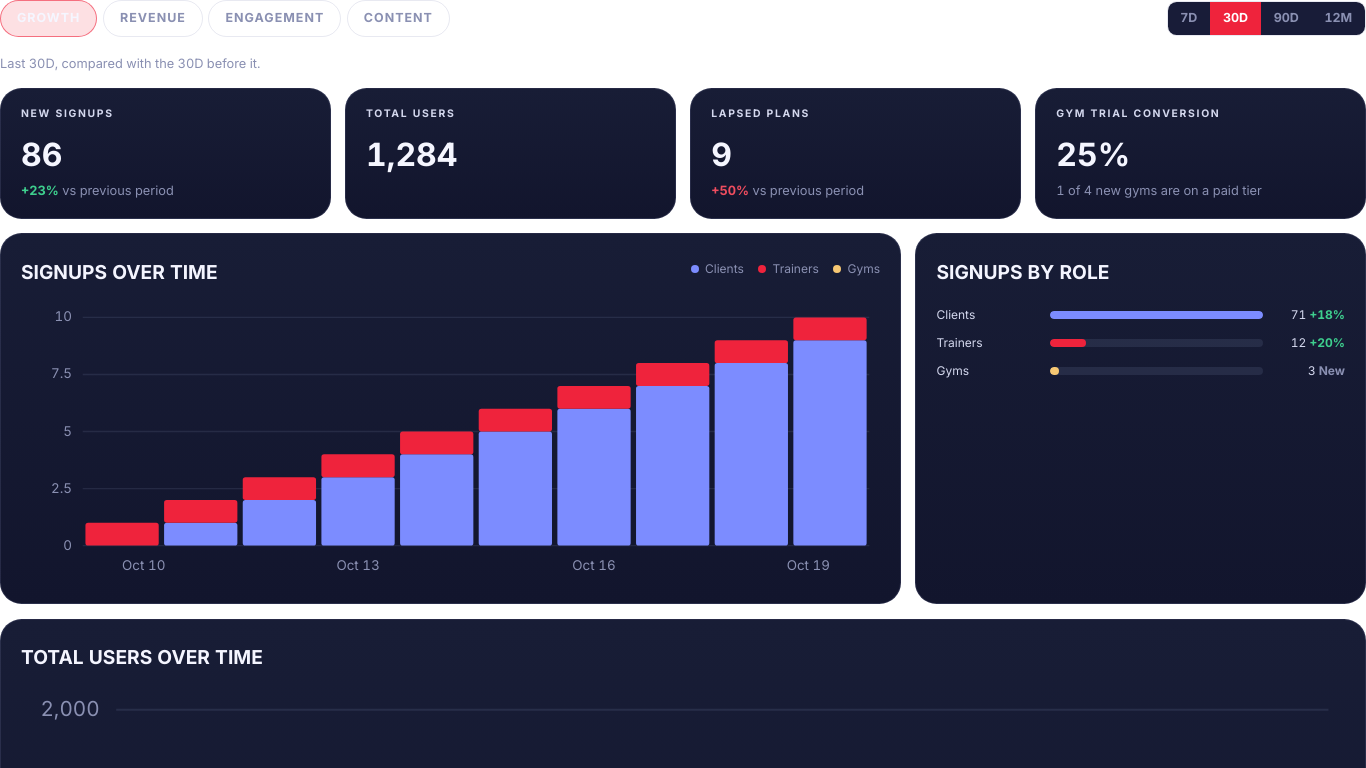
Test: AdminAnalytics › switches tabs and shows revenue, engagement and content
expect the element with test id "kpi-signups" is shown: met, box x1=0 y1=88 x2=331 y2=219
Click the tab "Revenue" at (153,18), box x1=103 y1=0 x2=203 y2=37
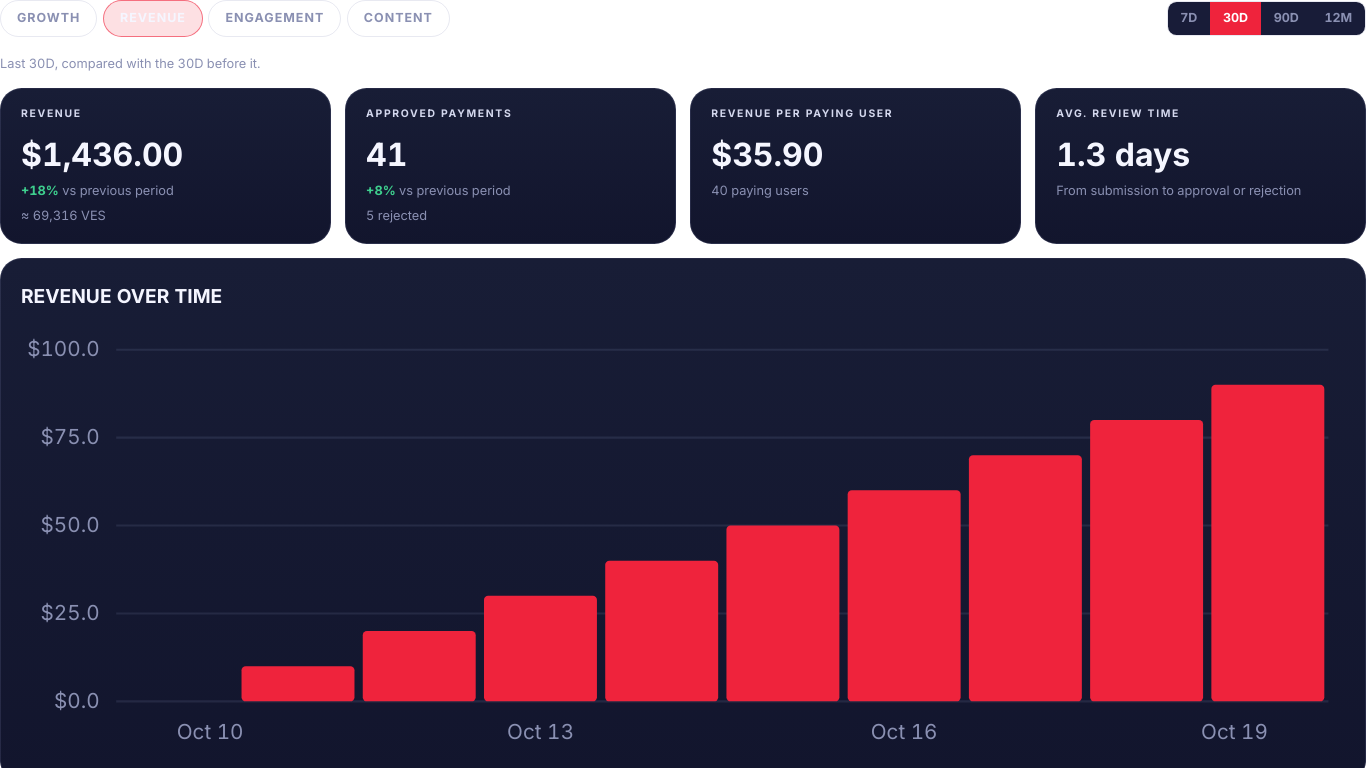
expect the element with test id "kpi-revenue" shows "$1,436.00": met, box x1=21 y1=135 x2=183 y2=174
expect the element with test id "kpi-revenue" shows "VES": met, box x1=21 y1=208 x2=106 y2=223
expect the element with test id "kpi-review-time" shows "1.3 days": met, box x1=1056 y1=135 x2=1190 y2=174
Click the tab "Engagement" at (275,18), box x1=208 y1=0 x2=341 y2=37
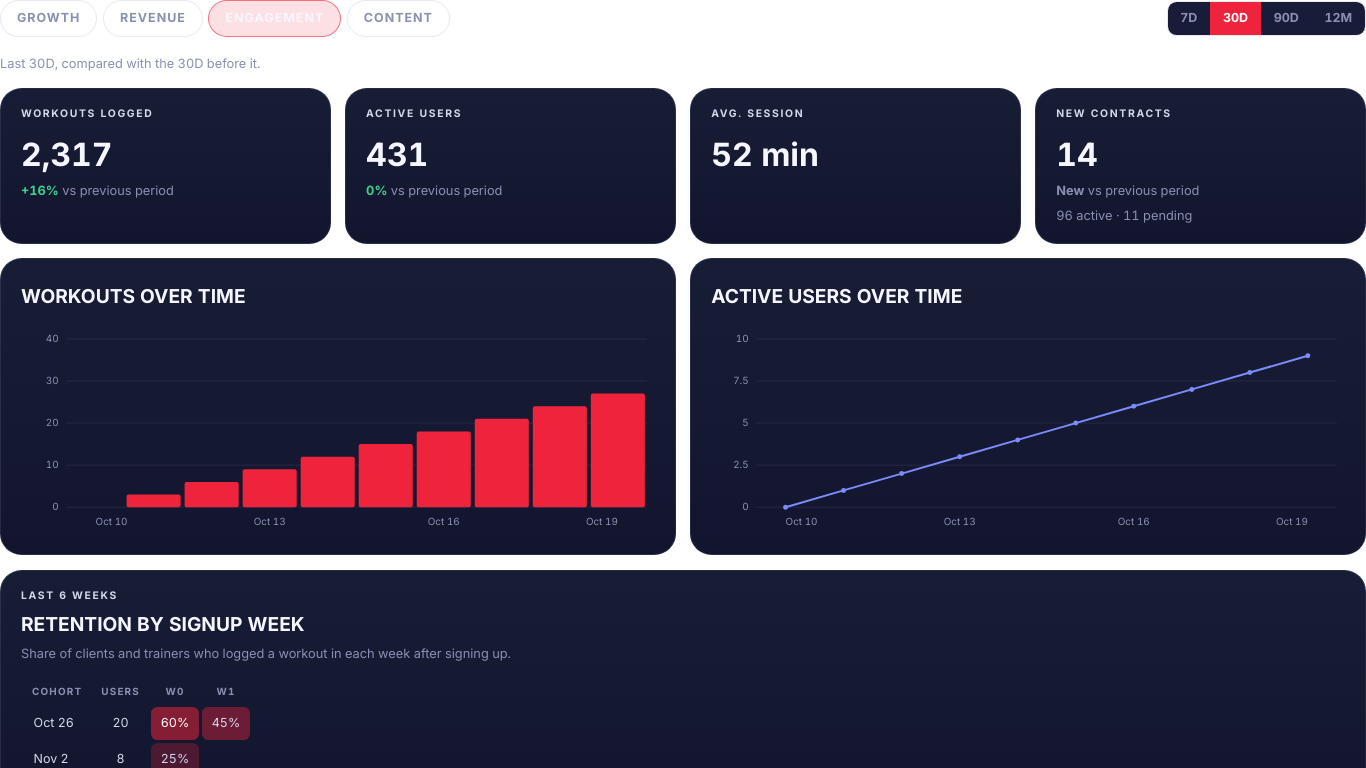
expect the element with test id "kpi-workouts" shows "2,317": met, box x1=21 y1=135 x2=112 y2=174
expect the element with test id "kpi-contracts" shows "New": met, box x1=1056 y1=183 x2=1084 y2=198
Click the tab "Content" at (398,18), box x1=347 y1=0 x2=450 y2=37
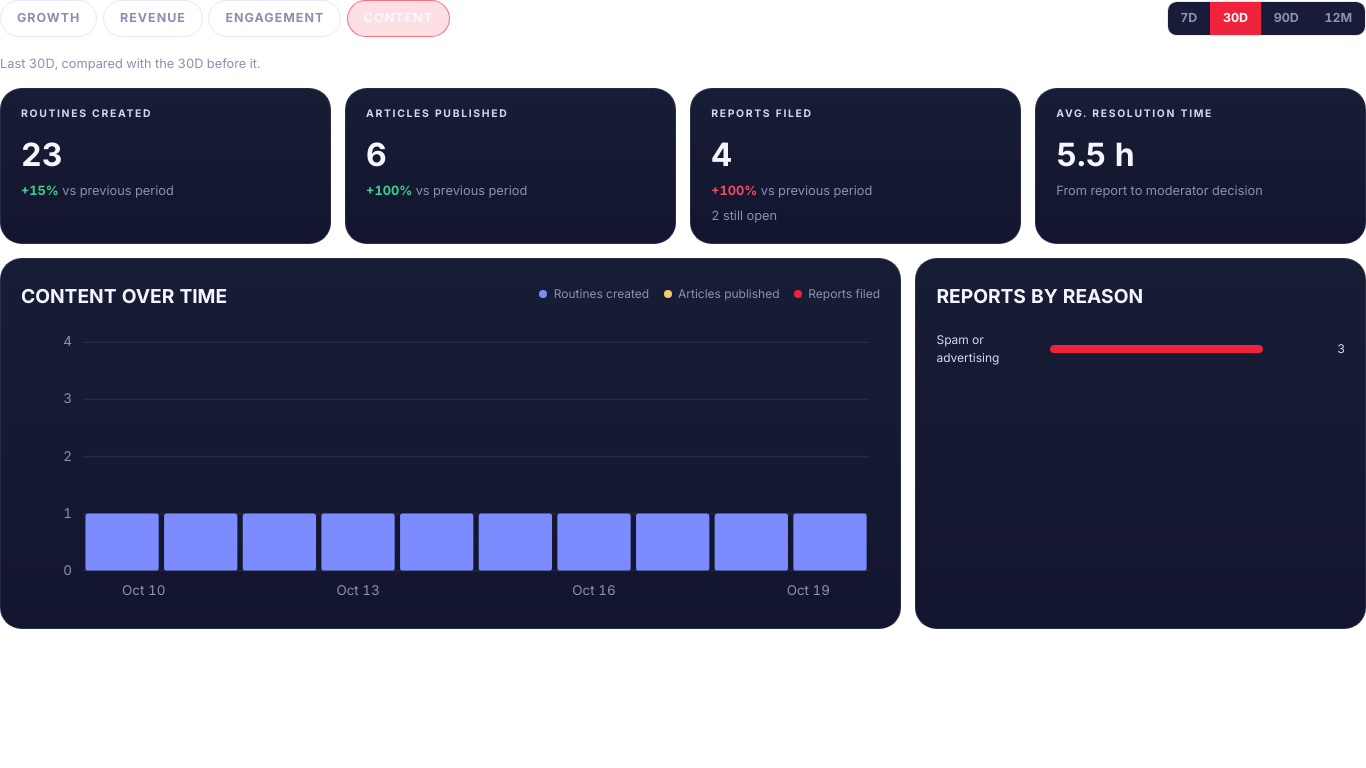
expect the element with test id "kpi-reports" shows "+100%": met, box x1=690 y1=88 x2=1021 y2=244
expect the element with test id "reports-by-reason" shows "Spam or advertising": met, box x1=936 y1=332 x2=999 y2=365
